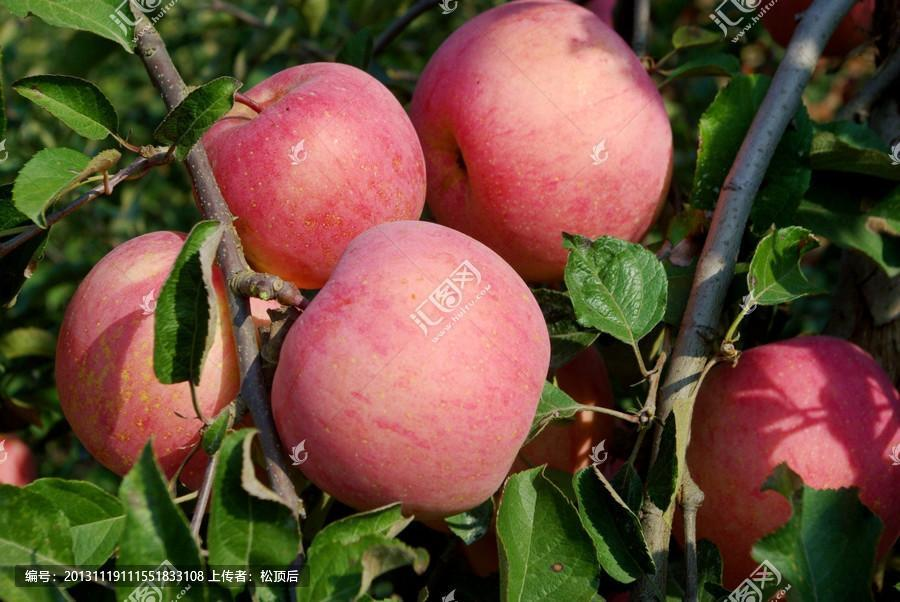apple: (262, 223, 548, 524), (399, 3, 672, 280), (677, 331, 899, 594), (186, 64, 430, 291), (54, 231, 241, 482)
